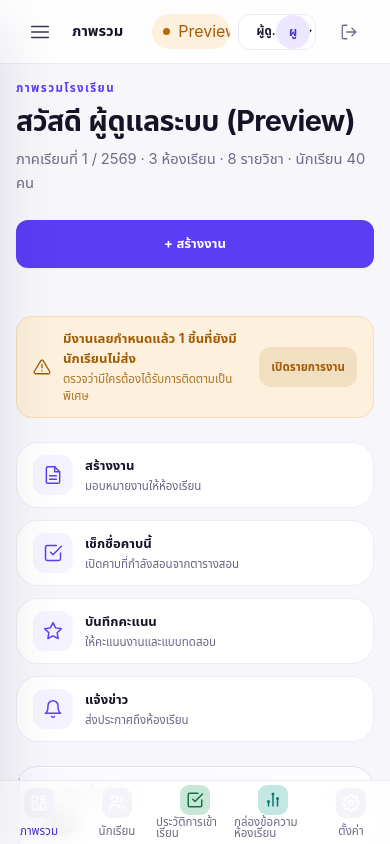
Test case: signing out › asks before it goes, and staying puts nothing at risk
Step 1. Click the button with class "topbar-signout" → (352, 32), box [330, 10, 374, 54]
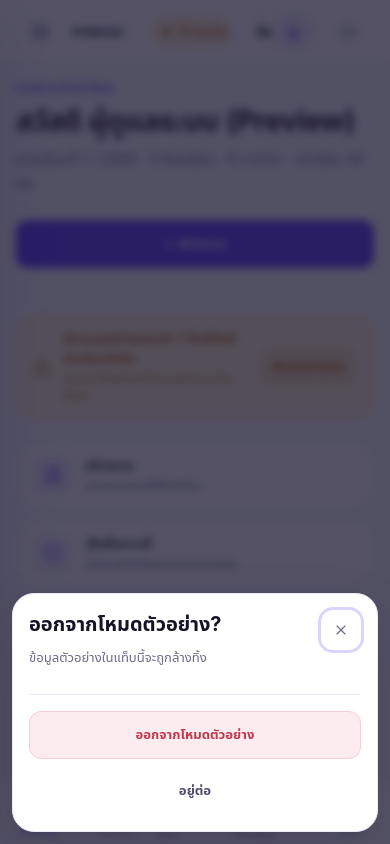
Expected: the heading "ออกจากโหมดตัวอย่าง?" is shown, [29, 610, 222, 640]
Step 2. Click the button "อยู่ต่อ" → (195, 791), box [29, 767, 361, 815]
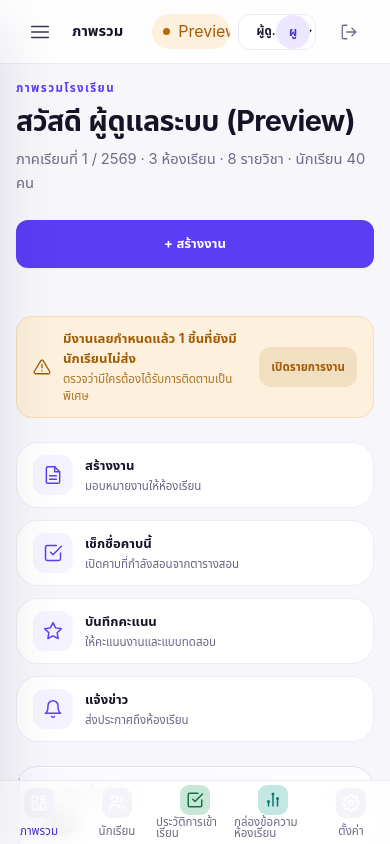
Expected: the dialog is gone
